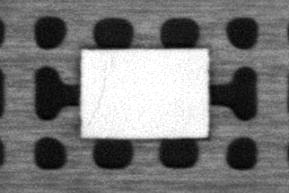DIE_CRACK: (88, 75, 106, 125)
